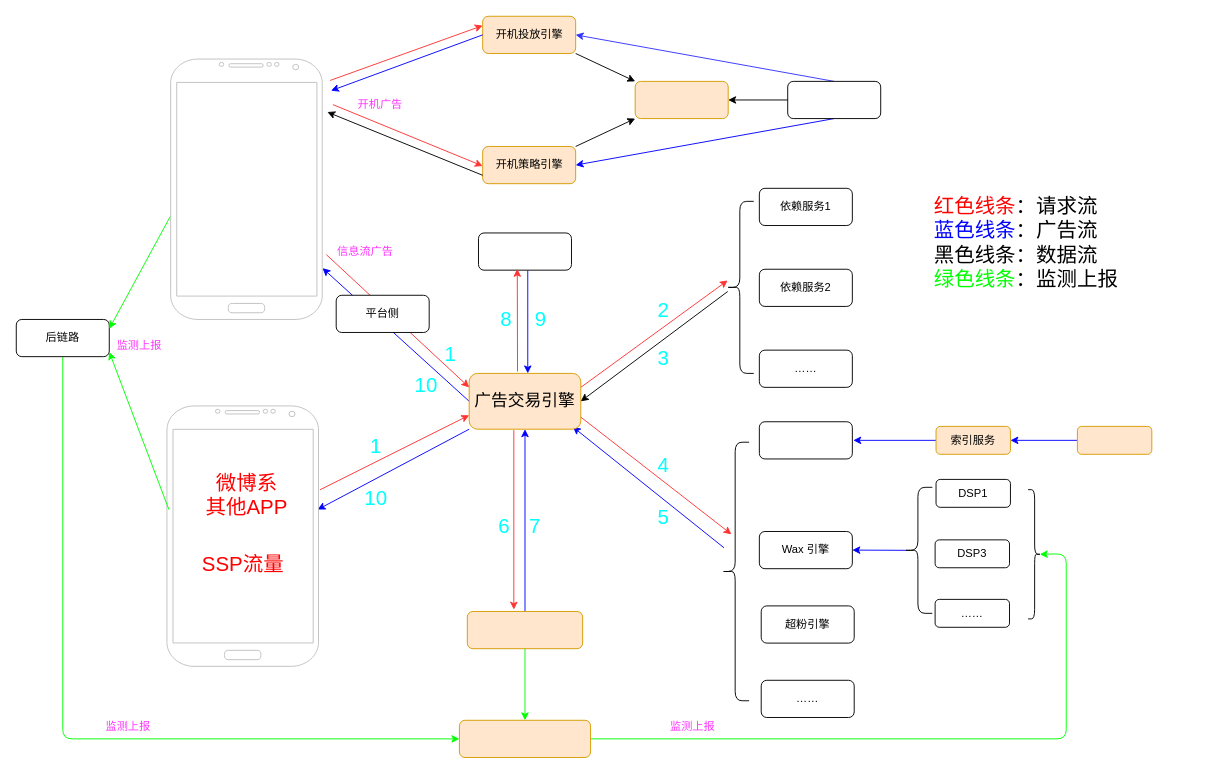
Image size: 1214x774. Some labels were removed from this diagram. The shapes that lost their labels are listed below. From the top down, each one's centre as x and y in pixels, then its label:
At [681,99]: "开机离线脚本".
At [834,99]: "开机消息中心".
At [246,188]: "微博APP".
At [524,251]: "渲染服务".
At [805,440]: "粉条引擎".
At [1114,439]: "图灵服务".
At [524,630]: "darwin竞价服务".
At [524,738]: "Wax日志上报服务".
